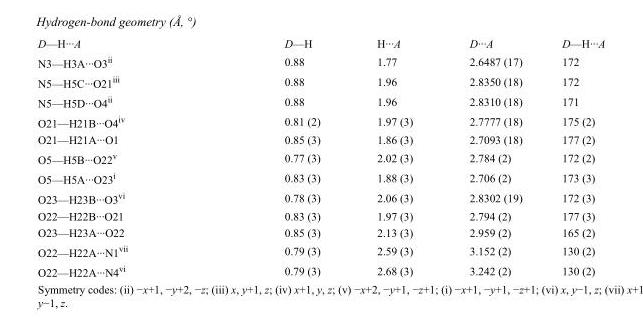table: (37, 36, 604, 278)
table column: (37, 36, 205, 278), (205, 36, 347, 278), (440, 36, 541, 278), (347, 36, 440, 278), (541, 36, 604, 278)
table row: (37, 51, 604, 71), (37, 71, 604, 91), (37, 91, 604, 111), (37, 147, 604, 167), (37, 167, 604, 187), (37, 187, 604, 207), (37, 240, 604, 260), (37, 111, 604, 130), (37, 260, 604, 278), (37, 130, 604, 147), (37, 223, 604, 240), (37, 207, 604, 223), (37, 36, 604, 51)
